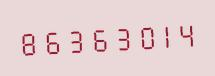eight: (17, 24, 38, 59)
four: (171, 16, 192, 51)
one: (149, 17, 170, 52)
six: (39, 23, 60, 58), (83, 21, 104, 56)
three: (61, 22, 82, 57), (105, 20, 126, 54)
zero: (127, 18, 148, 53)
